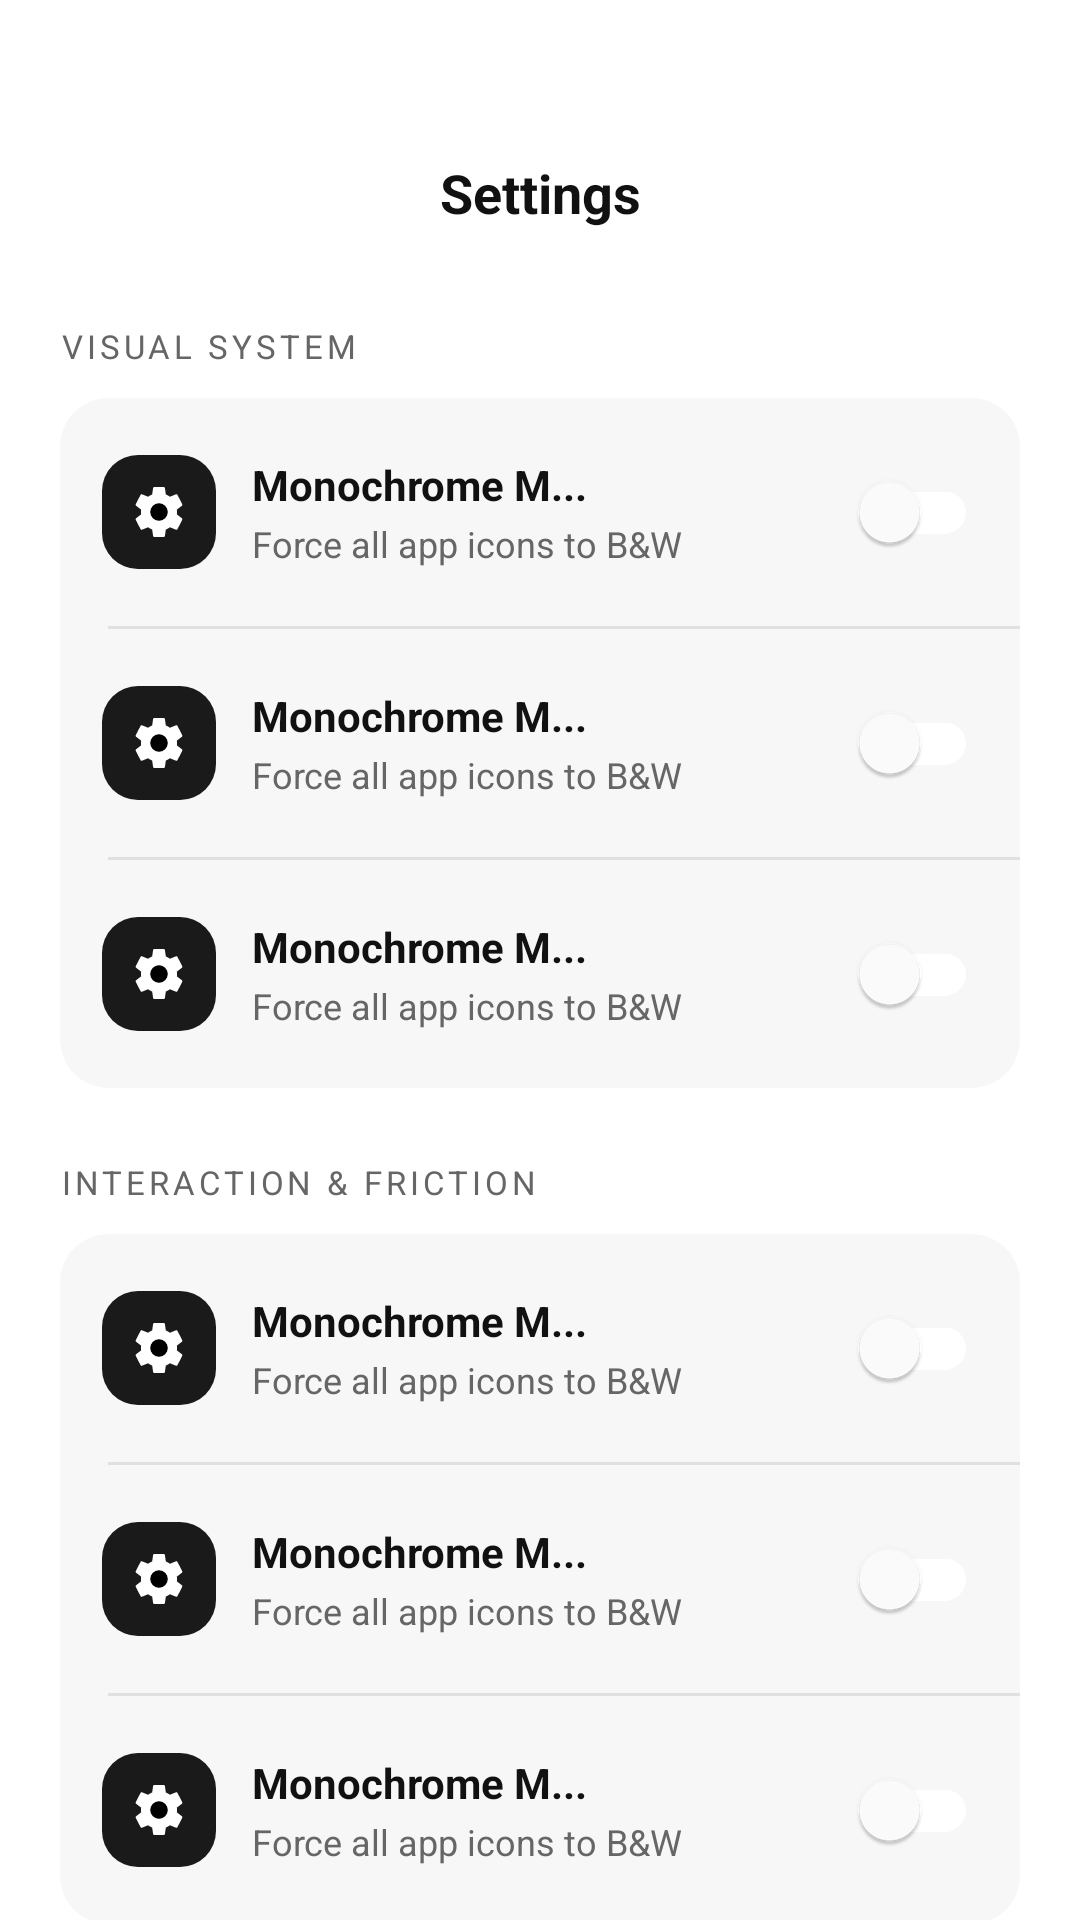

Where to tap for icons on this 1080x1920 app screen, as (x=x, y=y):
Setting icon: (x=159, y=512), (x=159, y=743), (x=159, y=974), (x=159, y=1348), (x=159, y=1579), (x=159, y=1810)
